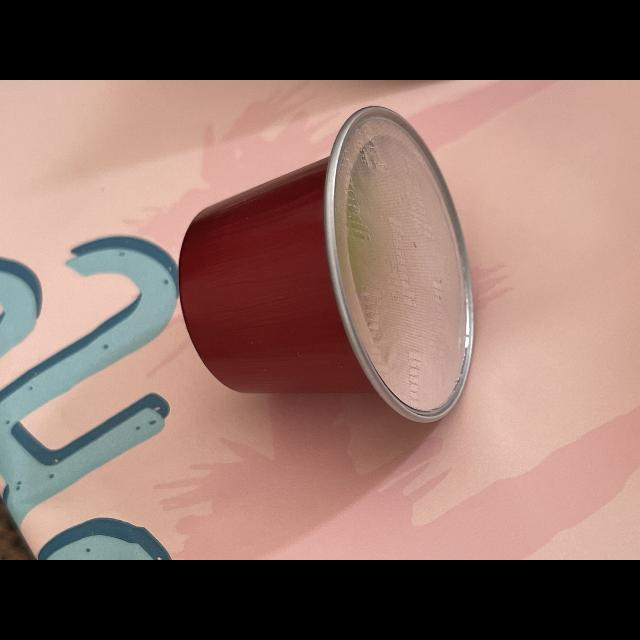intact_capsule: (158, 96, 500, 448)
